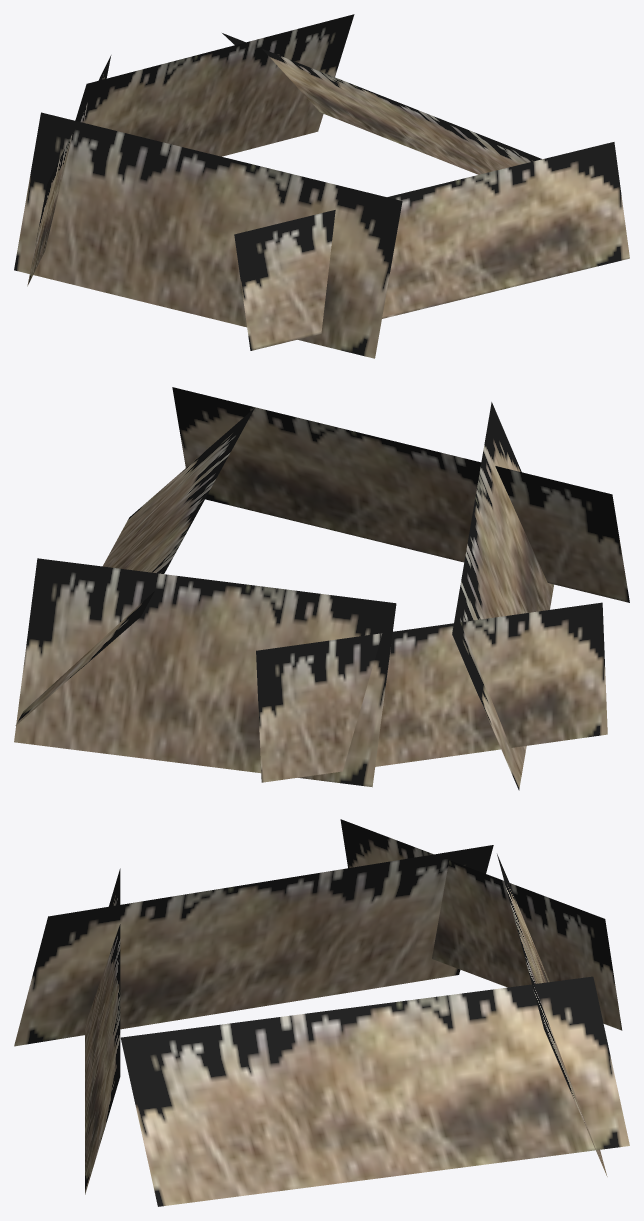
The model's file is grass.glb.
The picture shows the model from 3 angles, top to bottom: view 1: azimuth 30°, elevation 25°; view 2: azimuth 150°, elevation 25°; view 3: azimuth 270°, elevation 25°; orthographic projection. The views are drawn at different scales.
Parts seen in each view (by area): view 1: grass.ms3d.mo; view 2: grass.ms3d.mo; view 3: grass.ms3d.mo.
Boxes of the visible parts, box(x1,y1,x2,y2) form: grass.ms3d.mo: box(14, 14, 629, 358); grass.ms3d.mo: box(14, 387, 629, 790); grass.ms3d.mo: box(14, 819, 629, 1206).
Size of the model in its own units: 23.75 by 6.89 by 22.41.
1 material, 1 textured.
